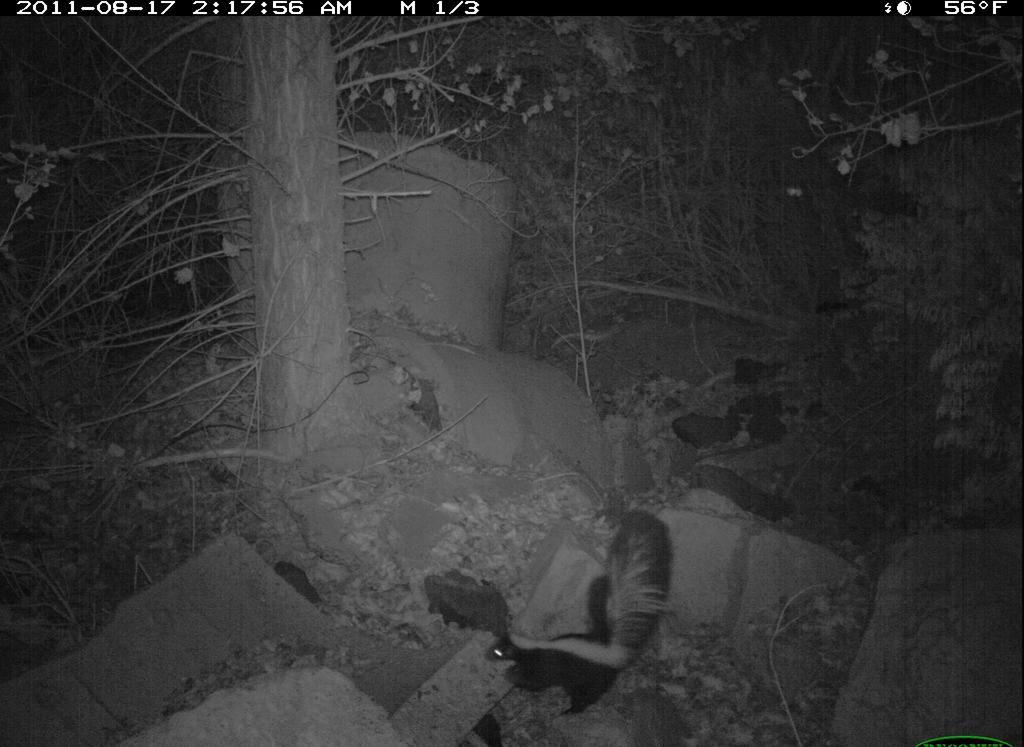skunk: (477, 504, 683, 721)
